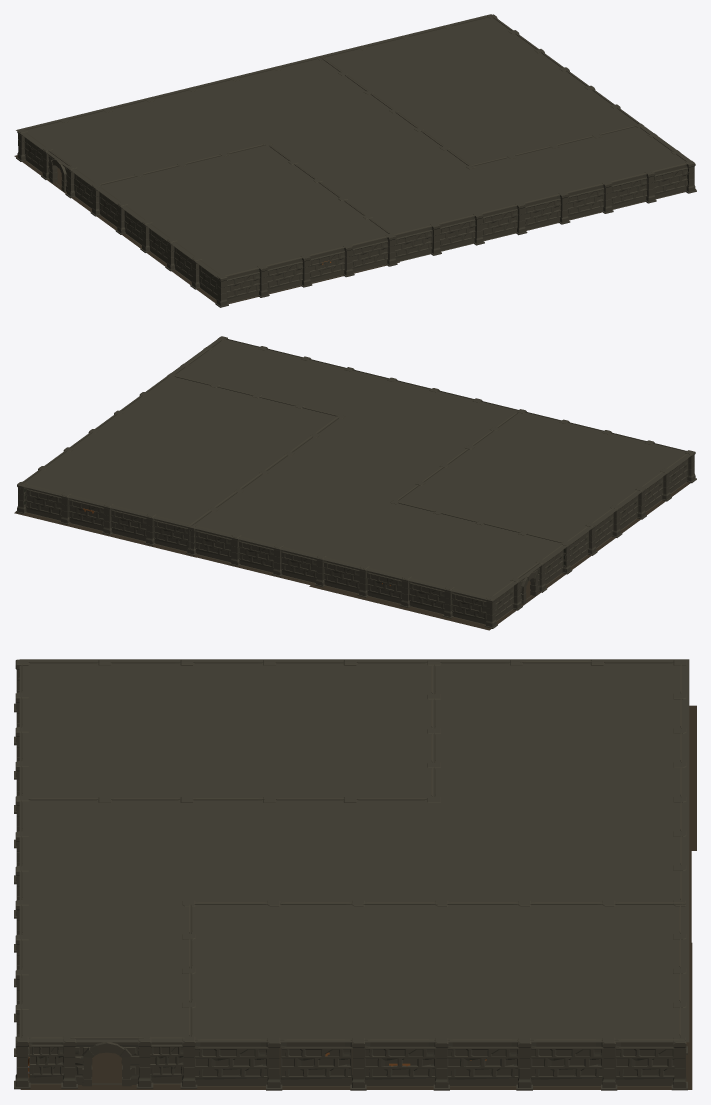
File: 8komnata1lvl.fbx
The picture shows the model from 3 angles, top to bottom: view 1: azimuth 30°, elevation 25°; view 2: azimuth 150°, elevation 25°; view 3: azimuth 270°, elevation 25°; orthographic projection. The views are drawn at different scales.
Visible parts, largest first — view 1: криша 2.011, Plane.164, Plane.160, Plane.228, Plane.243, Plane.227, Plane.165, Plane.226, Plane.242, Plane.191, Plane.244, Plane.241 (+9 smaller); view 2: криша 2.011, Plane.160, Plane.143, Plane.135, Plane.254, Plane.134, Plane.138, Plane.137, Plane.136, Plane.133, Plane.252, Plane.253 (+8 smaller); view 3: криша 2.011, Plane.160, Plane.250, Plane.246, Plane.249, Plane.248, Plane.247, Plane.245, Plane.231, Plane.232, Plane.230, Cube.233 (+9 smaller).
Boxes of the visible parts, x1,y1,x2,y2 form: криша 2.011: (16,14,690,278); Plane.164: (394,225,432,262); Plane.160: (14,155,696,304); Plane.228: (567,183,604,220); Plane.243: (351,236,388,272); Plane.227: (610,173,647,209); Plane.165: (438,215,475,251); Plane.226: (481,204,517,241); Plane.242: (266,257,302,293); Plane.191: (523,194,560,230); Plane.244: (309,247,345,283); Plane.241: (225,267,259,303); криша 2.011: (18,339,694,601); Plane.160: (14,482,690,630); Plane.143: (194,526,231,562); Plane.135: (323,557,359,593); Plane.254: (25,484,62,520); Plane.134: (409,578,445,614); Plane.138: (238,536,274,572); Plane.137: (366,568,402,604); Plane.136: (281,547,316,583); Plane.133: (451,588,487,624); Plane.252: (111,505,147,541); Plane.253: (68,495,104,531); криша 2.011: (19,659,689,1042); Plane.160: (20,705,696,1089); Plane.250: (194,1039,268,1086); Plane.246: (530,1039,603,1086); Plane.249: (280,1039,352,1086); Plane.248: (364,1039,436,1086); Plane.247: (447,1039,518,1086); Plane.245: (614,1039,686,1086); Plane.231: (70,1038,143,1086); Plane.232: (29,1037,64,1084); Plane.230: (149,1037,184,1084); Cube.233: (266,1037,282,1090).
Bounding box in the file's own units: 13934 × 844 × 10445.
